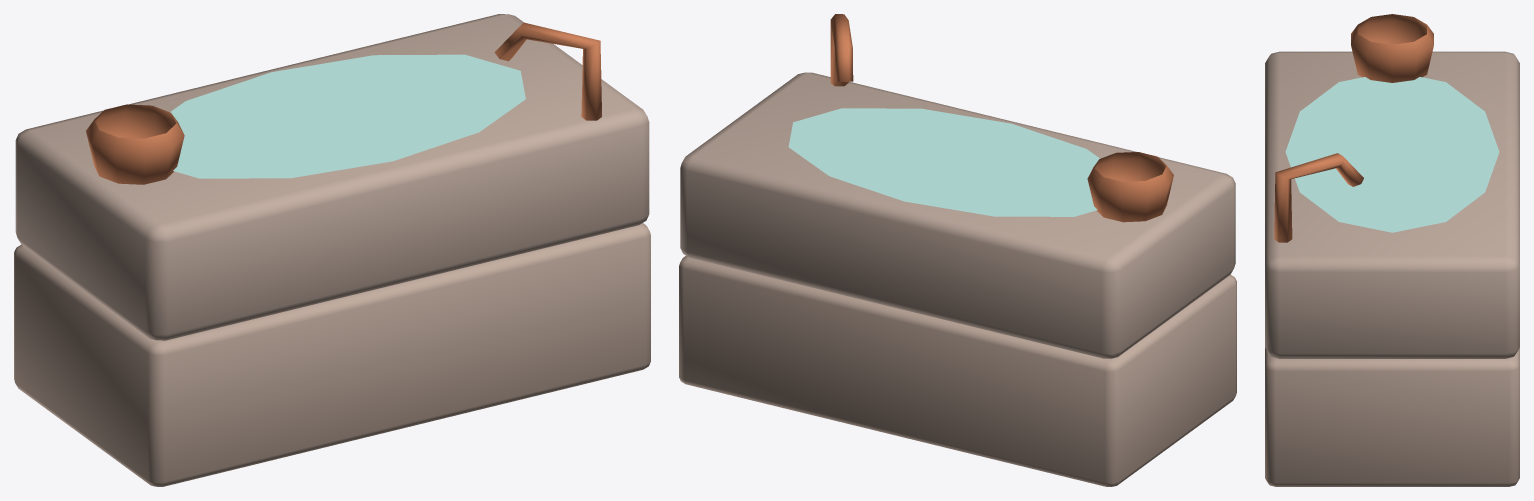
Rendered from sink_stone.glb.
3 renders of one model, left to right at view 1: azimuth 30°, elevation 25°; view 2: azimuth 150°, elevation 25°; view 3: azimuth 270°, elevation 25°, orthographic. The views are drawn at different scales.
Visible parts, largest first — view 1: sink_stone; view 2: sink_stone; view 3: sink_stone.
Boxes of the visible parts, x1,y1,x2,y2 form: sink_stone: (14, 14, 650, 486); sink_stone: (679, 14, 1236, 486); sink_stone: (1265, 14, 1519, 486).
Size of what is drawn, in the model's own units: 1.4 by 0.9 by 0.7.
